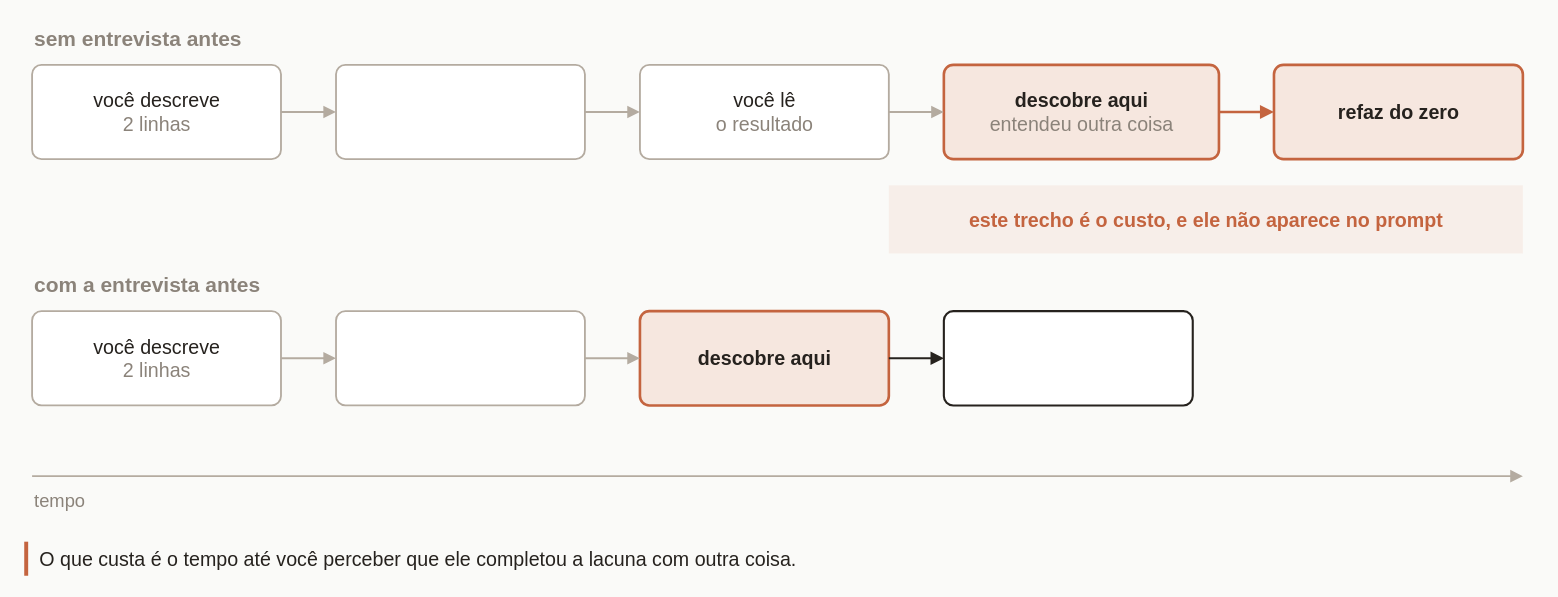
Image size: 1558x597. Some labels were removed from this diagram. The centre of each missing label's shape, as x and y in pixels:
3 perguntas 30 segundos: the point at 459,358
corrige e segue: the point at 1067,357
ele trabalha 40 minutos: the point at 459,111
